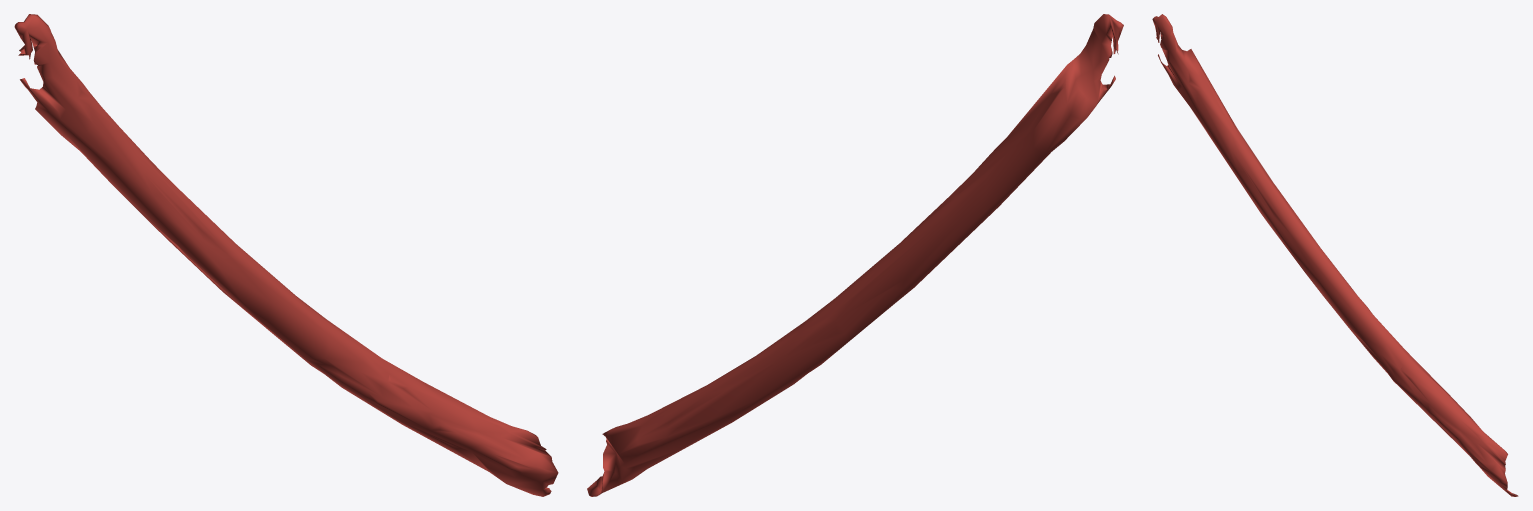
File: musculos-inguinal-ligament-r.glb
3 views of the same model, side by side, from view 1: azimuth 30°, elevation 25°; view 2: azimuth 150°, elevation 25°; view 3: azimuth 330°, elevation 25° (orthographic). The views are drawn at different scales.
Parts seen in each view (by area): view 1: Inguinal ligament.r; view 2: Inguinal ligament.r; view 3: Inguinal ligament.r.
Part boxes in pixels (left/top/right/bottom): Inguinal ligament.r: left=14, top=14, right=558, bottom=496; Inguinal ligament.r: left=587, top=14, right=1123, bottom=496; Inguinal ligament.r: left=1152, top=14, right=1518, bottom=496.
Size of the model in its own units: 0.1045 by 0.1132 by 0.00928.
